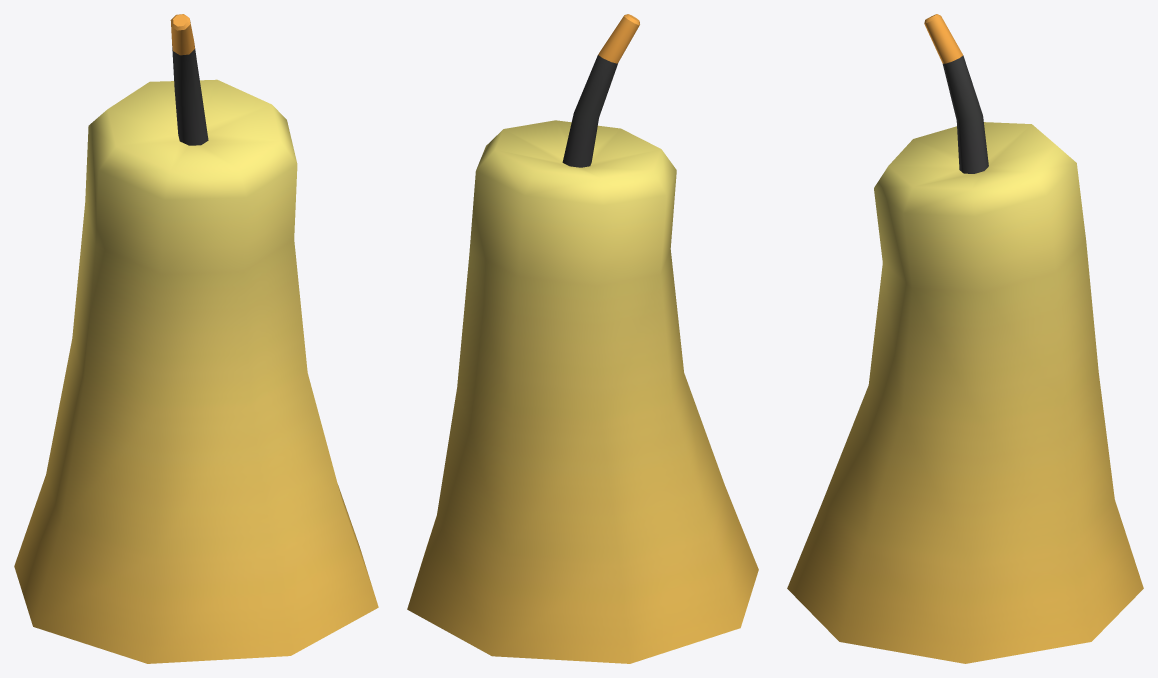
The model's file is Candle_3.obj.
3 views of the same model, side by side, from view 1: azimuth 30°, elevation 25°; view 2: azimuth 150°, elevation 25°; view 3: azimuth 270°, elevation 25° (orthographic). The views are drawn at different scales.
Visible parts, largest first — view 1: Candle_3; view 2: Candle_3; view 3: Candle_3.
Part boxes in pixels (bbox=[...]): Candle_3: bbox=[14, 14, 378, 663]; Candle_3: bbox=[407, 14, 758, 663]; Candle_3: bbox=[787, 14, 1143, 663].
Bounding box in the file's own units: 0.1009 × 0.1745 × 0.1009.
